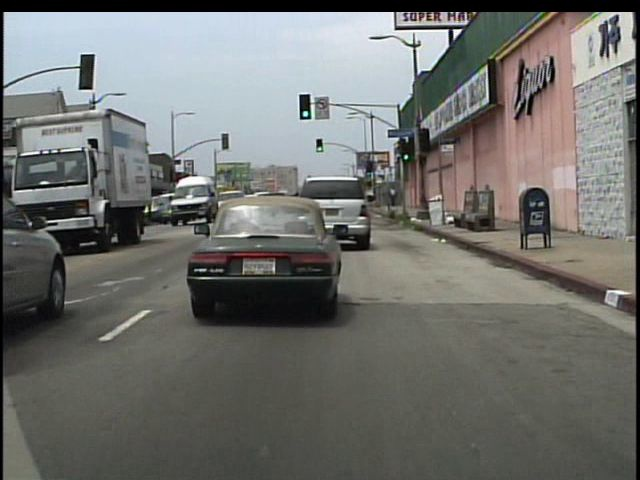person: (390, 184, 400, 207)
